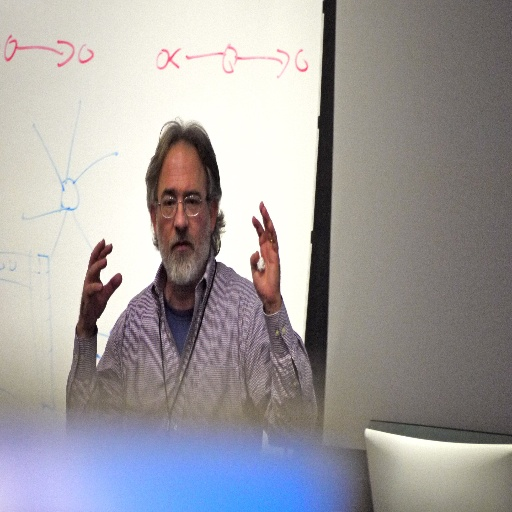hand: (69, 236, 117, 346), (249, 200, 280, 305)
